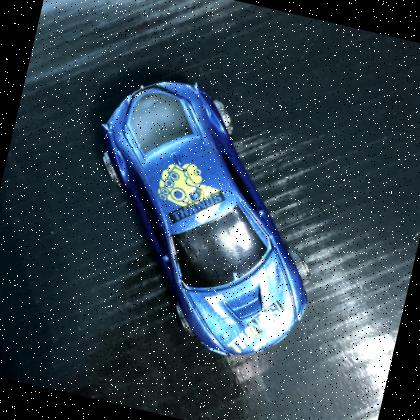Car: (100, 81, 306, 358)
